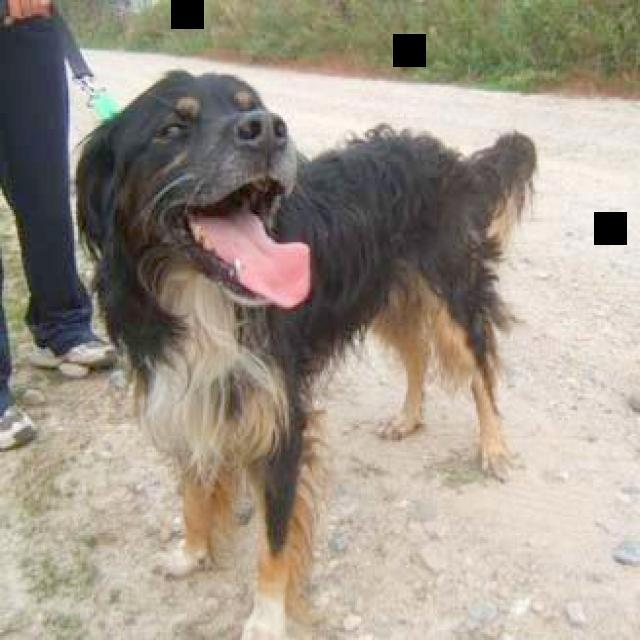adult_dog: (73, 67, 540, 640)
non-dog: (0, 2, 122, 450)
